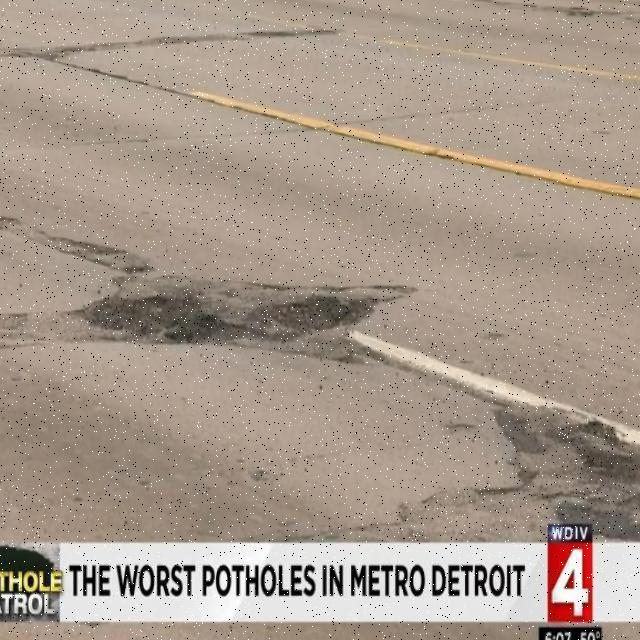pothole: (64, 277, 401, 354), (500, 404, 640, 533)
